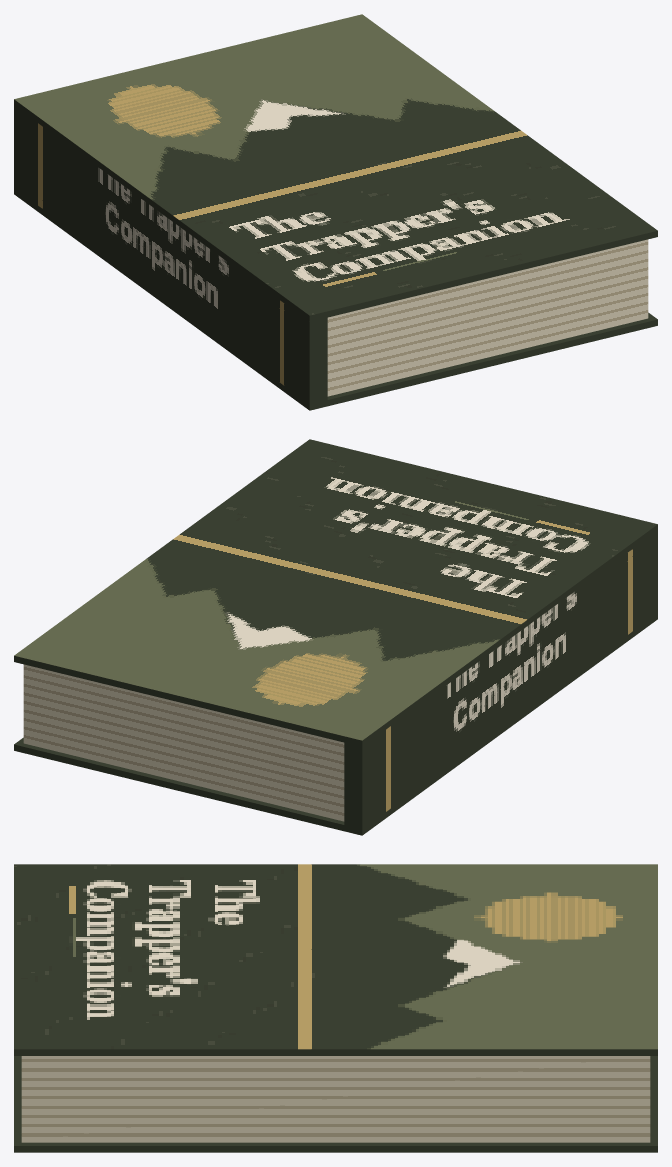
Rendered from trappers_companion.glb.
The picture shows the model from 3 angles, top to bottom: view 1: azimuth 30°, elevation 25°; view 2: azimuth 150°, elevation 25°; view 3: azimuth 270°, elevation 25°; orthographic projection. The views are drawn at different scales.
Parts seen in each view (by area): view 1: block_front cover, block_spine, block_page block, block_back cover; view 2: block_front cover, block_spine, block_page block, block_back cover; view 3: block_front cover, block_page block, block_back cover.
Part boxes in pixels (box(x1,y1,x2,y2)): block_front cover: box(14, 14, 657, 321); block_spine: box(14, 106, 327, 404); block_page block: box(327, 239, 648, 396); block_back cover: box(14, 188, 657, 410); block_front cover: box(14, 439, 657, 746); block_spine: box(344, 531, 657, 829); block_page block: box(23, 664, 344, 821); block_back cover: box(14, 613, 657, 835); block_front cover: box(14, 864, 657, 1055); block_page block: box(21, 1056, 650, 1142); block_back cover: box(14, 1056, 657, 1152).
Bounding box in the file's own units: 0.1734 × 0.0452 × 0.255.
Materials: 1 (1 with a texture image).
